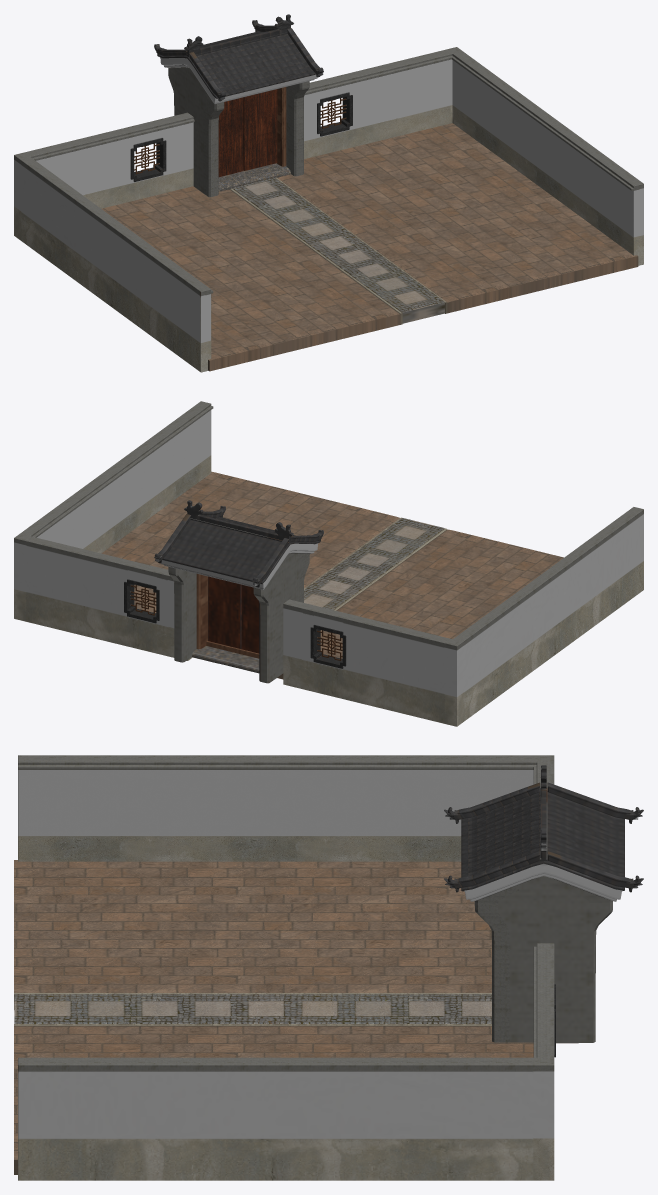
File: Yard.fbx
3 renders of one model, top to bottom at view 1: azimuth 30°, elevation 25°; view 2: azimuth 150°, elevation 25°; view 3: azimuth 270°, elevation 25°, orthographic. The views are drawn at different scales.
Visible parts, largest first — view 1: floor, wall, gate; view 2: wall, floor, gate; view 3: wall, floor, gate.
Boxes of the visible parts, box(x1,y1,x2,y2) form: floor: box(101, 123, 638, 371); wall: box(14, 47, 643, 372); gate: box(154, 14, 323, 197); wall: box(14, 401, 643, 726); floor: box(101, 471, 563, 679); gate: box(154, 500, 323, 683); wall: box(18, 755, 555, 1180); floor: box(14, 860, 533, 1174); gate: box(444, 765, 643, 1043).
Size of the model in its own units: 2120 by 719 by 1821.
